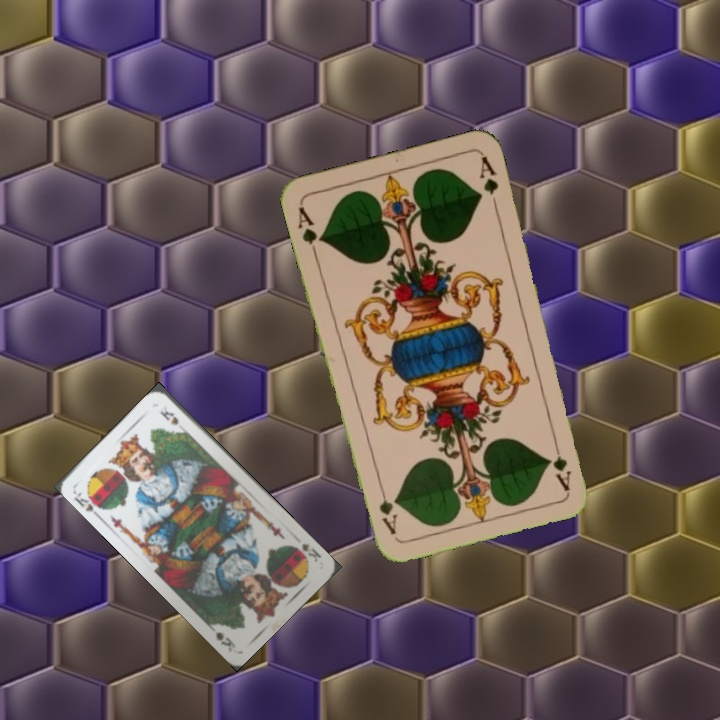GA: (294, 202, 326, 259), (549, 434, 574, 493)
SK: (70, 486, 108, 520), (298, 539, 324, 565)
